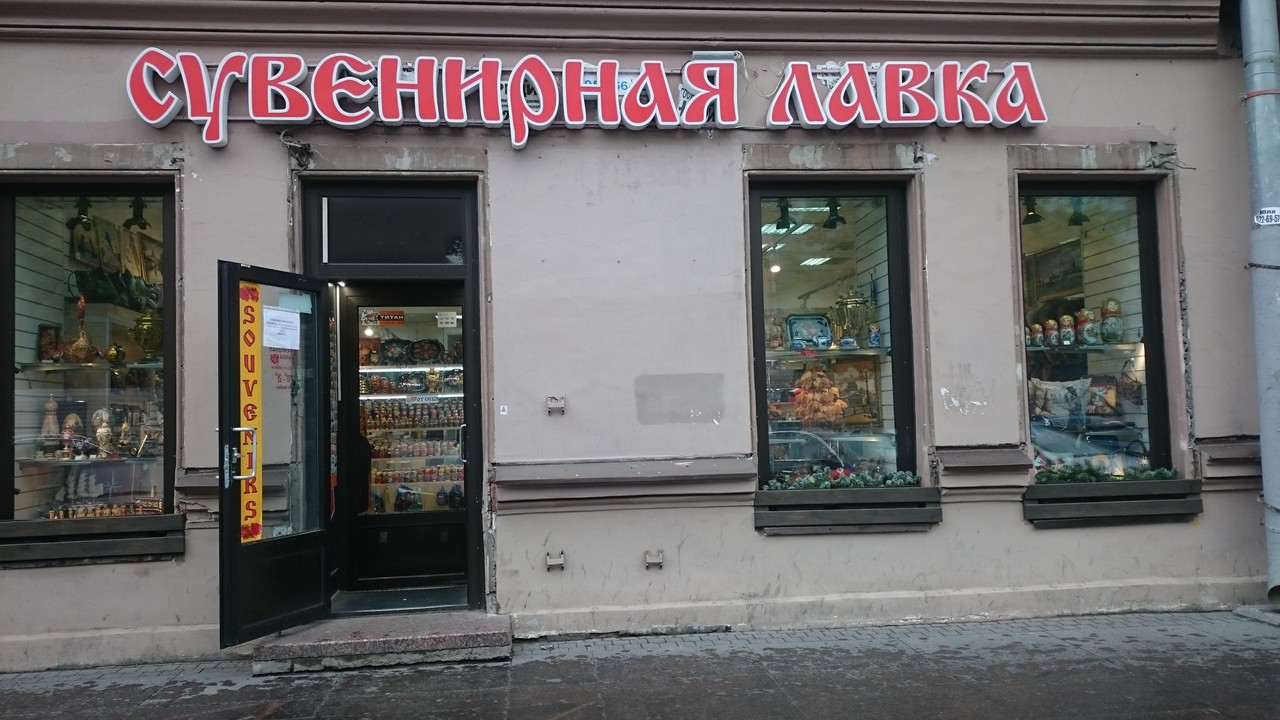door: (217, 258, 481, 649)
signboard: (125, 42, 1049, 149)
window: (7, 185, 171, 522), (755, 178, 907, 490), (1019, 177, 1173, 476)
